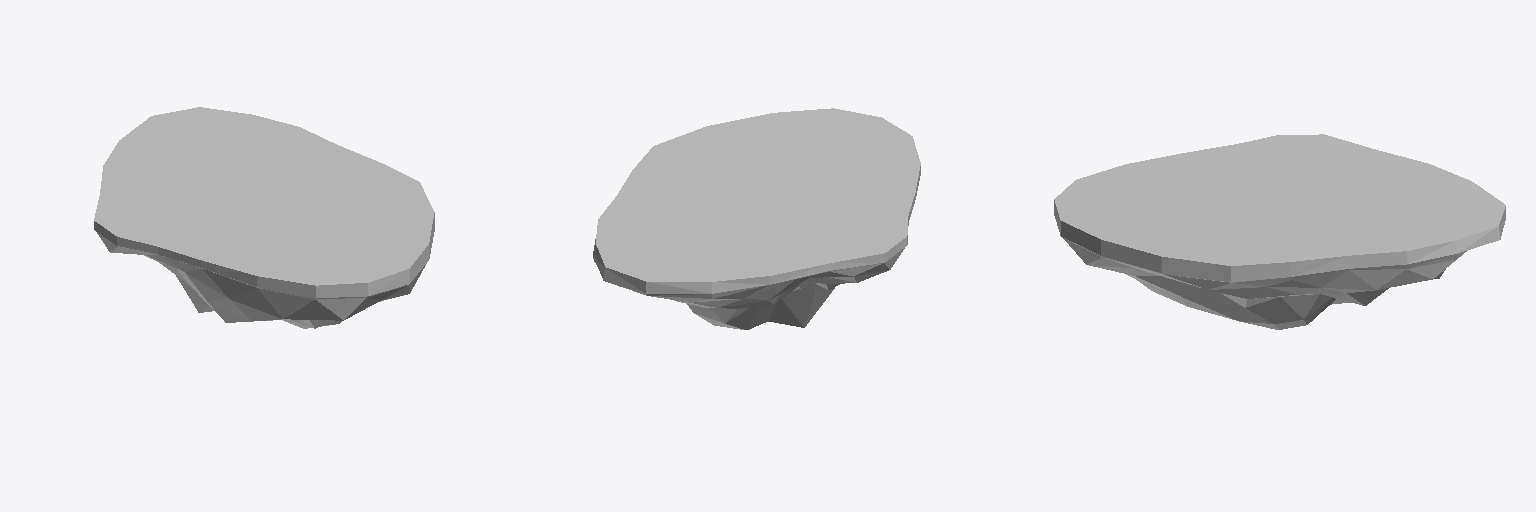
Rendered from island.obj.
3 renders of one model, left to right at view 1: azimuth 30°, elevation 25°; view 2: azimuth 150°, elevation 25°; view 3: azimuth 270°, elevation 25°, orthographic.
Visible parts, largest first — view 1: Ostrov_B_Icosphere.002; view 2: Ostrov_B_Icosphere.002; view 3: Ostrov_B_Icosphere.002.
Part boxes in pixels (x1,y1,x2,y2): Ostrov_B_Icosphere.002: (94, 107, 434, 328); Ostrov_B_Icosphere.002: (593, 108, 920, 329); Ostrov_B_Icosphere.002: (1054, 134, 1505, 329).
Bounding box in the file's own units: 45.87 × 18.13 × 64.35.